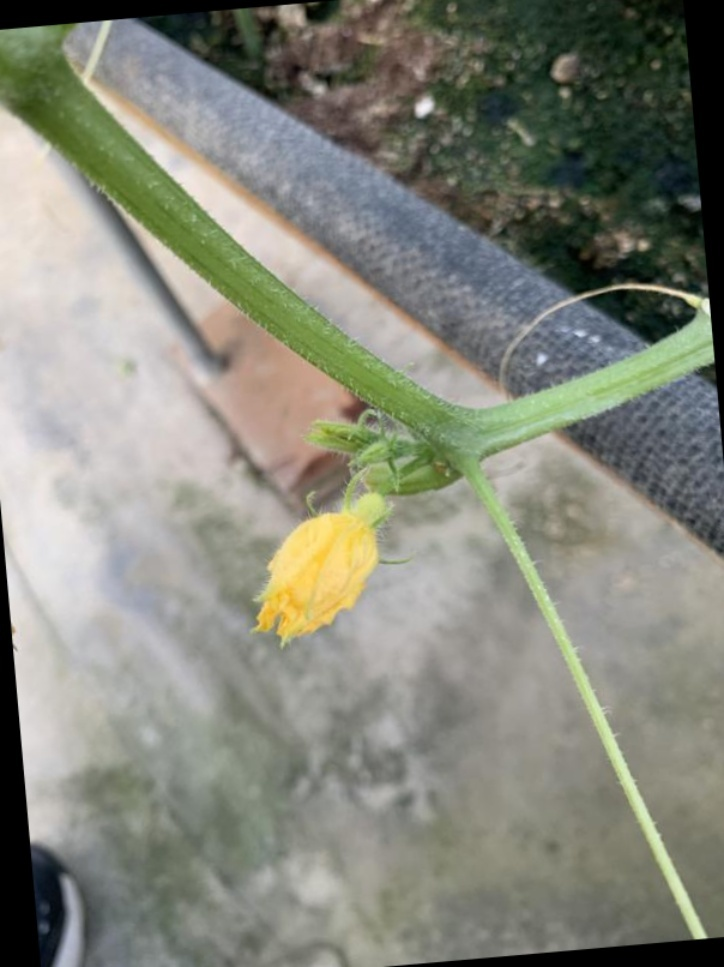bud: (210, 481, 416, 654)
